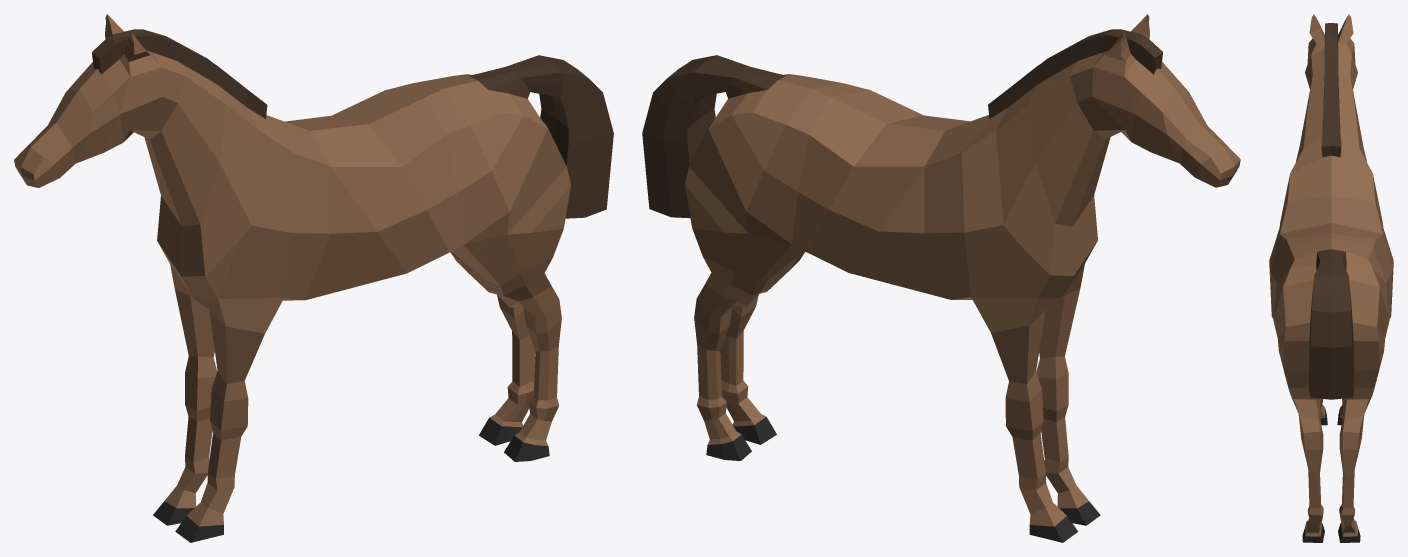
File: Horse 1.fbx
3 renders of one model, left to right at view 1: azimuth 30°, elevation 25°; view 2: azimuth 150°, elevation 25°; view 3: azimuth 270°, elevation 25°, orthographic. The views are drawn at different scales.
Parts seen in each view (by area): view 1: Cube; view 2: Cube; view 3: Cube.
Boxes of the visible parts, x1=… form: Cube: x1=14, y1=14, x2=613, y2=542; Cube: x1=642, y1=14, x2=1240, y2=542; Cube: x1=1269, y1=14, x2=1393, y2=542.
Size of the model in its own units: 578 by 495 by 146.
